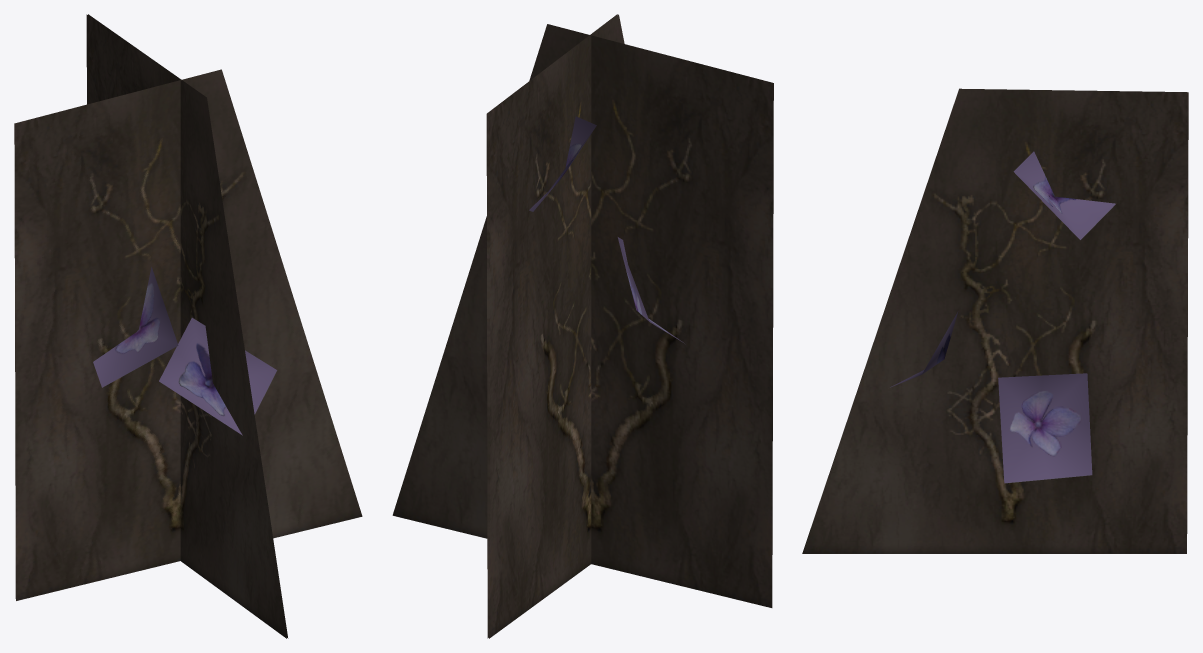
The model's file is ivy_04.DAE.
3 views of the same model, side by side, from view 1: azimuth 30°, elevation 25°; view 2: azimuth 150°, elevation 25°; view 3: azimuth 270°, elevation 25° (orthographic). The views are drawn at different scales.
Parts seen in each view (by area): view 1: Object004, foliage_Ivy04; view 2: Object004, foliage_Ivy04; view 3: foliage_Ivy04, Object004.
Boxes of the visible parts, bbox=[...] form: Object004: bbox=[14, 14, 360, 638]; foliage_Ivy04: bbox=[15, 14, 362, 638]; Object004: bbox=[392, 14, 773, 638]; foliage_Ivy04: bbox=[486, 14, 684, 638]; foliage_Ivy04: bbox=[802, 89, 1188, 553]; Object004: bbox=[804, 88, 1188, 548].
Size of the model in its own units: 1.55 by 2.06 by 1.55.
